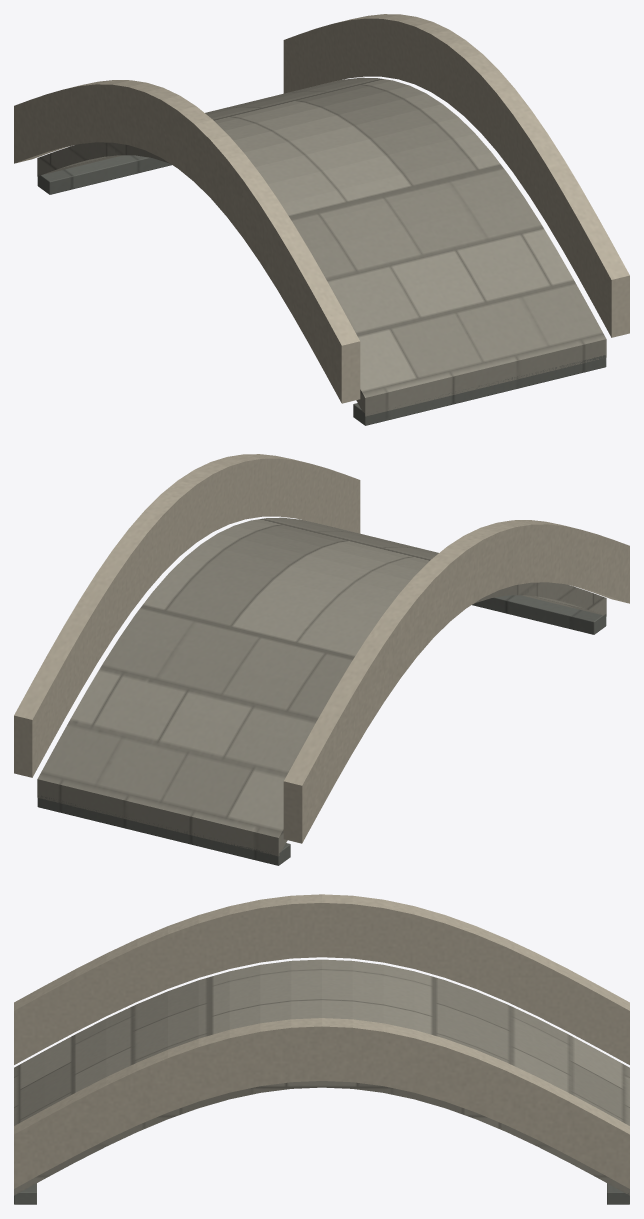
The model's file is Stone_Bridge.fbx.
3 renders of one model, top to bottom at view 1: azimuth 30°, elevation 25°; view 2: azimuth 150°, elevation 25°; view 3: azimuth 270°, elevation 25°, orthographic. The views are drawn at different scales.
Parts seen in each view (by area): view 1: Stone_Bridge.001; view 2: Stone_Bridge.001; view 3: Stone_Bridge.001.
Boxes of the visible parts, box(x1,y1,x2,y2) form: Stone_Bridge.001: box(14, 14, 629, 425); Stone_Bridge.001: box(14, 454, 629, 865); Stone_Bridge.001: box(14, 894, 629, 1204).
Size of the model in its own units: 4.06 by 2.71 by 8.
